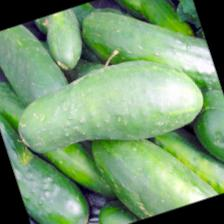cucumber: (7, 40, 212, 178), (75, 0, 222, 125), (83, 96, 219, 224), (0, 16, 73, 120)
